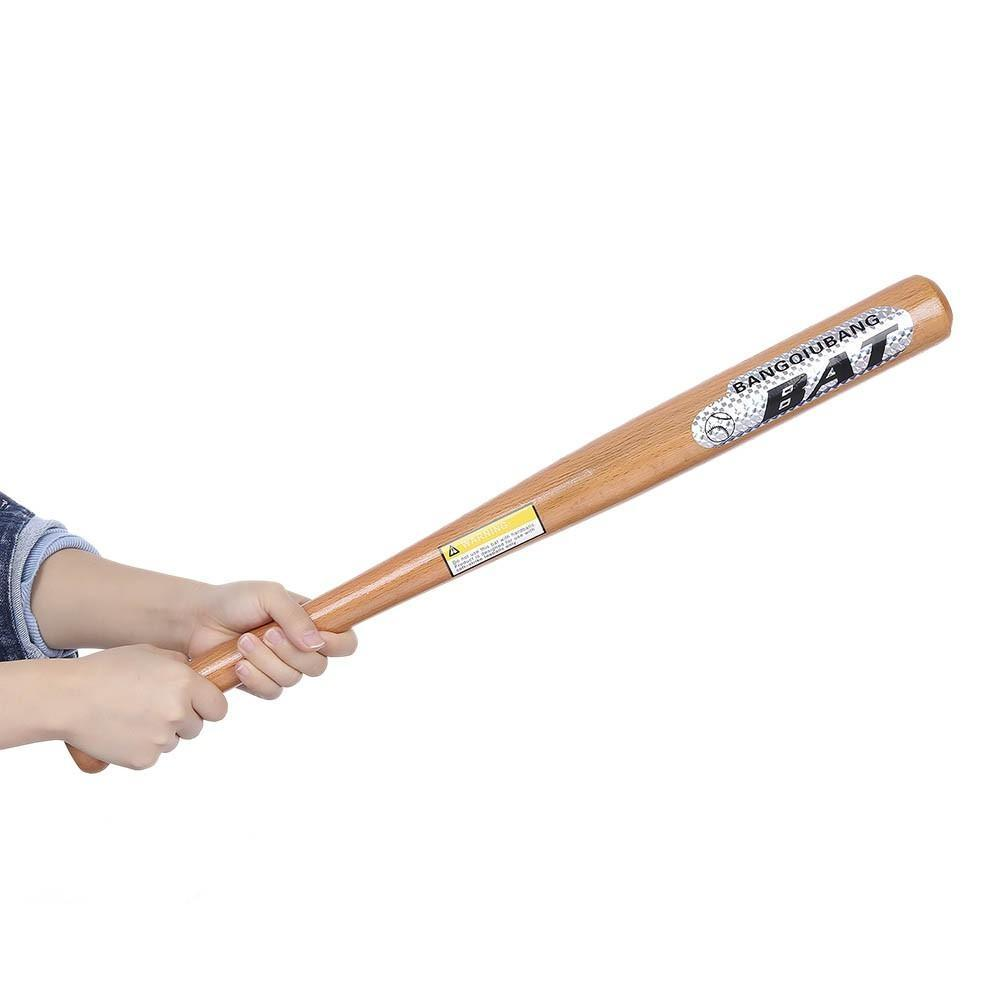Baseball-Bat: (322, 130, 990, 775)
